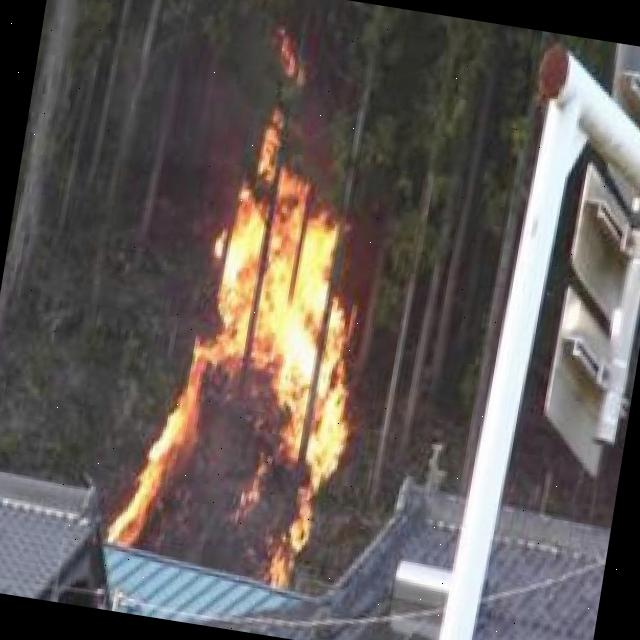fire: (111, 111, 399, 594)
